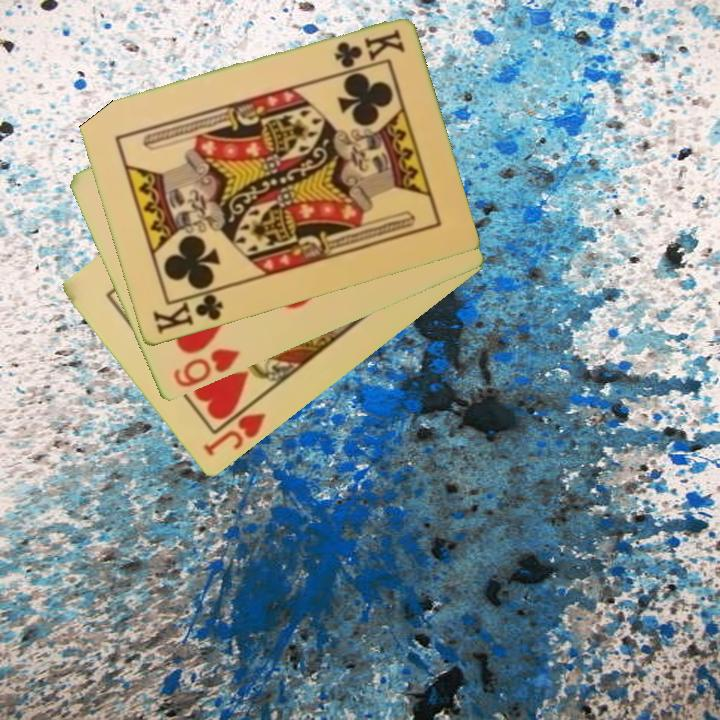6h: (169, 345, 242, 391)
Jh: (199, 395, 269, 460)
Kc: (149, 286, 226, 338), (330, 26, 407, 71)
